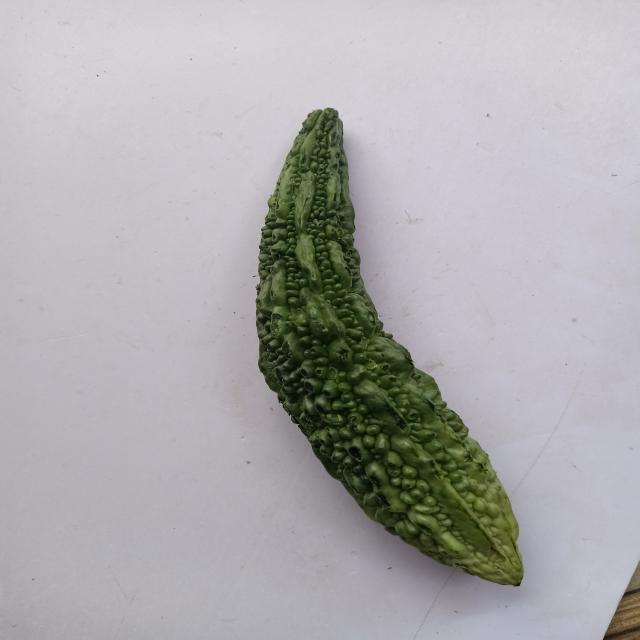Bitter Gourd: (227, 87, 548, 611)
